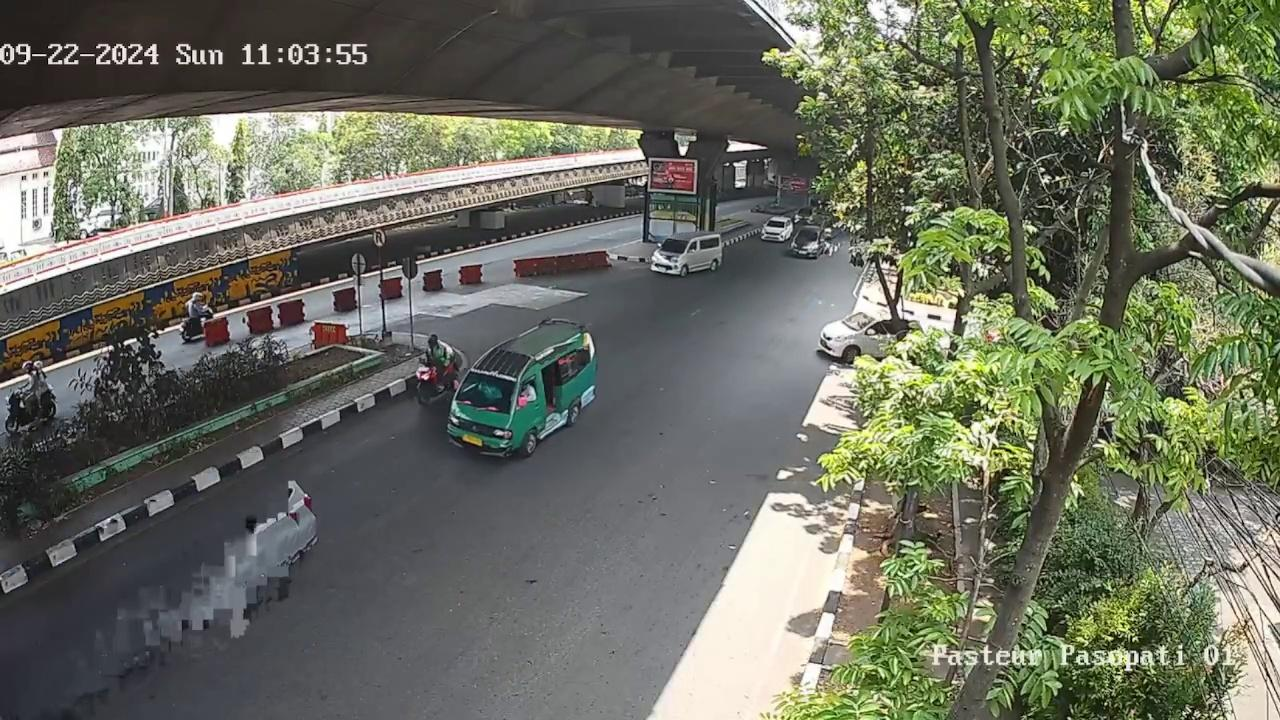tidak-pakai: (476, 381, 498, 400)
windshield: (455, 370, 516, 408)
